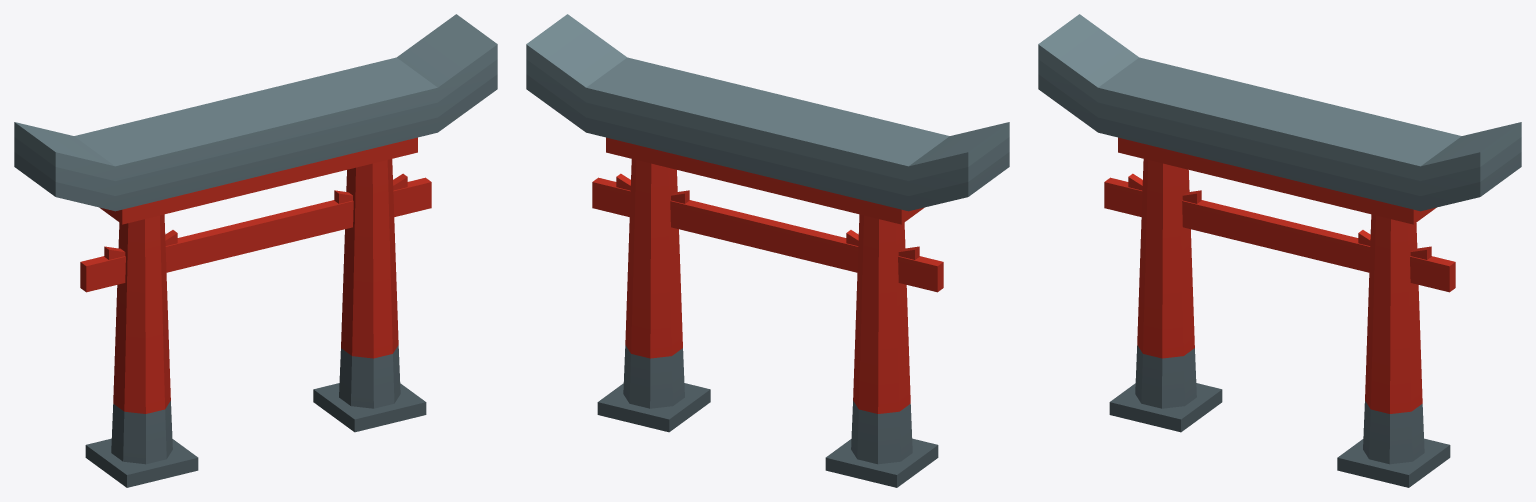
File: torii gate.fbx
3 renders of one model, left to right at view 1: azimuth 30°, elevation 25°; view 2: azimuth 150°, elevation 25°; view 3: azimuth 330°, elevation 25°, orthographic.
Parts seen in each view (by area): view 1: torii gate; view 2: torii gate; view 3: torii gate.
Boxes of the visible parts, box(x1,y1,x2,y2) form: torii gate: box(14, 14, 497, 487); torii gate: box(526, 14, 1009, 487); torii gate: box(1038, 14, 1521, 487).
Bounding box in the file's own units: 678 × 518 × 110.
